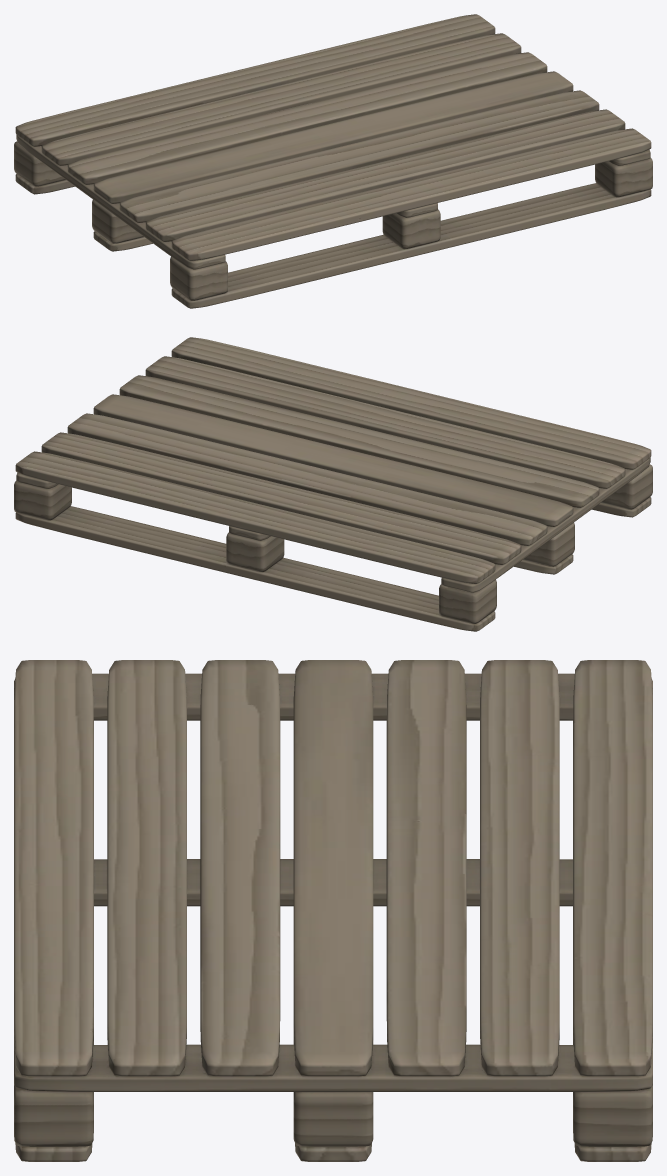
Rendered from weathered.glb.
3 views of the same model, one above another, from view 1: azimuth 30°, elevation 25°; view 2: azimuth 150°, elevation 25°; view 3: azimuth 270°, elevation 25° (orthographic). The views are drawn at different scales.
Visible parts, largest first — view 1: pallet_wood, pallet_wood_y; view 2: pallet_wood, pallet_wood_y; view 3: pallet_wood, pallet_wood_y.
Part boxes in pixels (x1,y1,x2,y2): pallet_wood: [15, 14, 651, 308]; pallet_wood_y: [14, 134, 652, 300]; pallet_wood: [15, 337, 651, 631]; pallet_wood_y: [14, 457, 652, 623]; pallet_wood: [14, 660, 652, 1161]; pallet_wood_y: [14, 673, 652, 1146].
Bounding box in the file's own units: 1.2 × 0.14 × 0.8.
2 materials, 2 textured.
